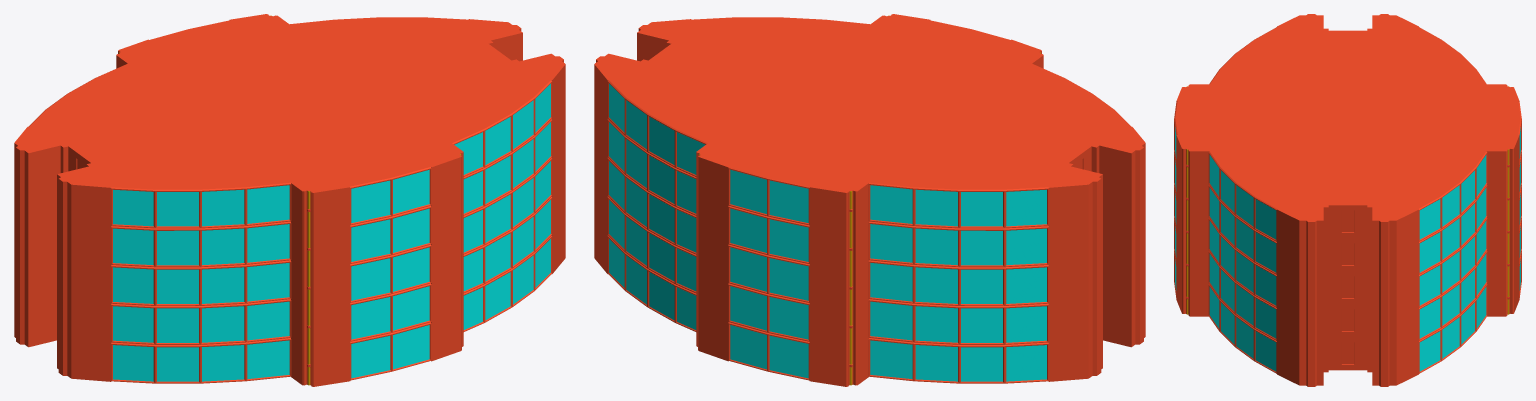
Rendered from SM_Skyscraper_B_Floor_City.fbx.
The picture shows the model from 3 angles, left to right: view 1: azimuth 30°, elevation 25°; view 2: azimuth 150°, elevation 25°; view 3: azimuth 270°, elevation 25°; orthographic projection. The views are drawn at different scales.
Visible parts, largest first — view 1: SM_Skyscraper_B_Floor_City; view 2: SM_Skyscraper_B_Floor_City; view 3: SM_Skyscraper_B_Floor_City.
Part boxes in pixels (left/top/right/bottom): SM_Skyscraper_B_Floor_City: left=14, top=14, right=565, bottom=386; SM_Skyscraper_B_Floor_City: left=594, top=14, right=1145, bottom=386; SM_Skyscraper_B_Floor_City: left=1174, top=14, right=1521, bottom=386.
Bounding box in the file's own units: 40.55 × 15 × 28.65.
